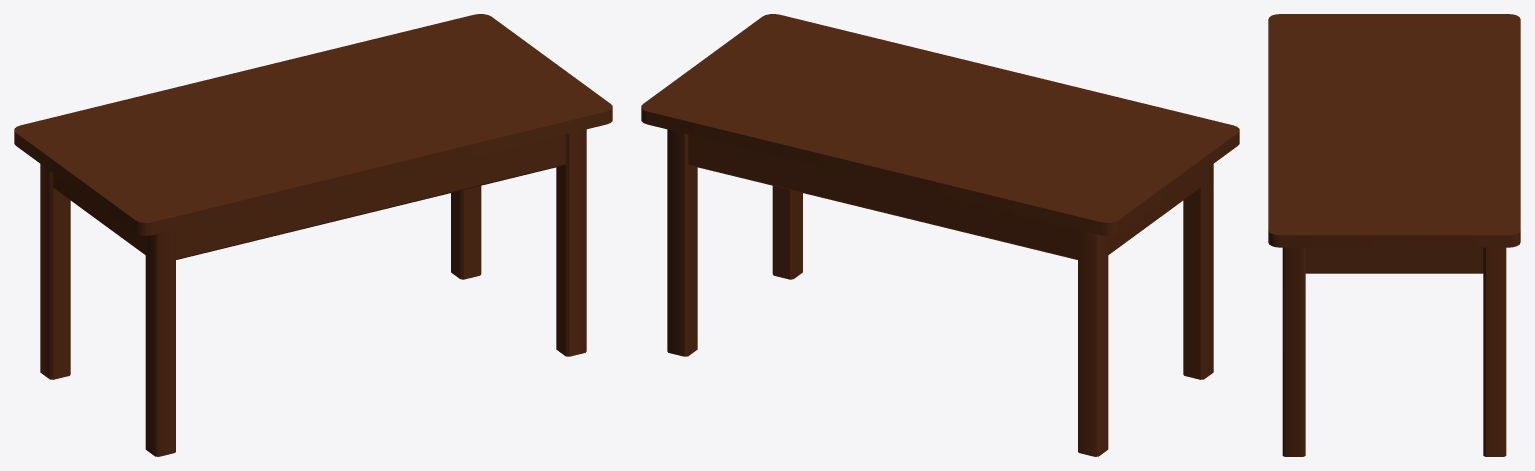
The model's file is TableTest.fbx.
3 renders of one model, left to right at view 1: azimuth 30°, elevation 25°; view 2: azimuth 150°, elevation 25°; view 3: azimuth 270°, elevation 25°, orthographic. The views are drawn at different scales.
Visible parts, largest first — view 1: Table; view 2: Table; view 3: Table.
Boxes of the visible parts, x1,y1,x2,y2 form: Table: (14,14,612,456); Table: (641,14,1239,456); Table: (1268,14,1520,456).
Size of the model in its own units: 177 by 86.61 by 85.31.
